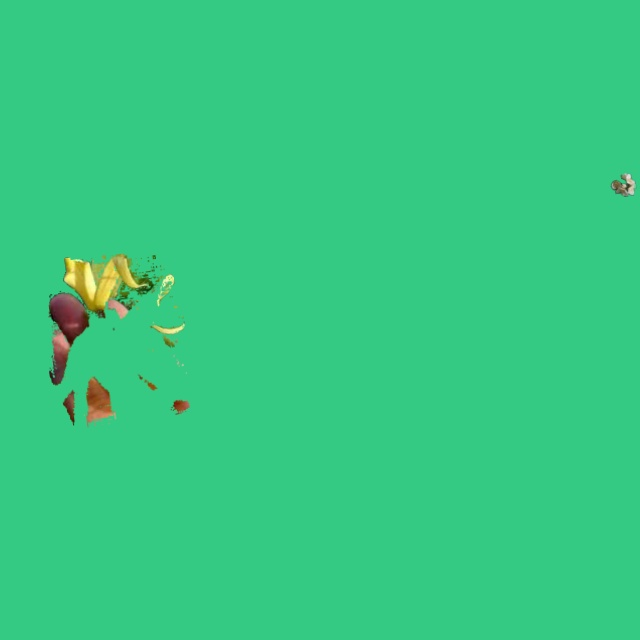jasmine: (611, 173, 634, 196)
ylang-ylang: (49, 254, 189, 425)
